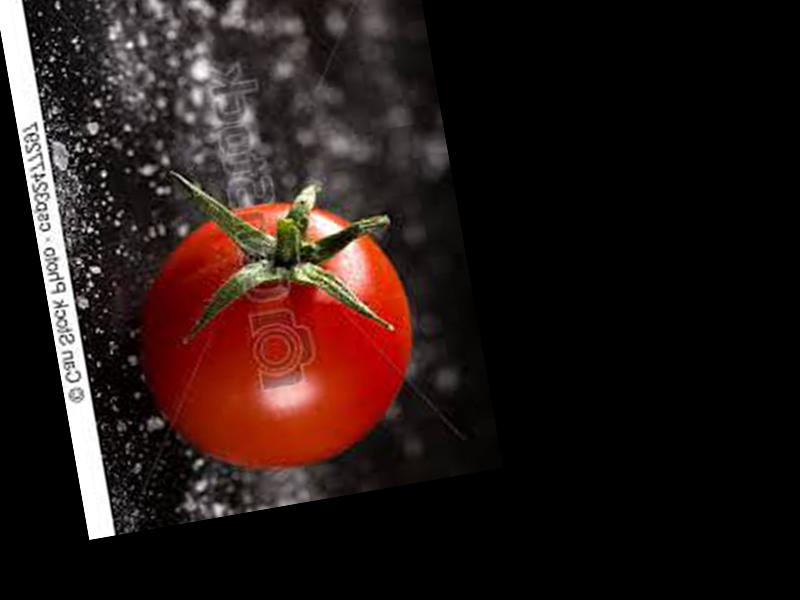Tomato: (122, 181, 432, 489)
